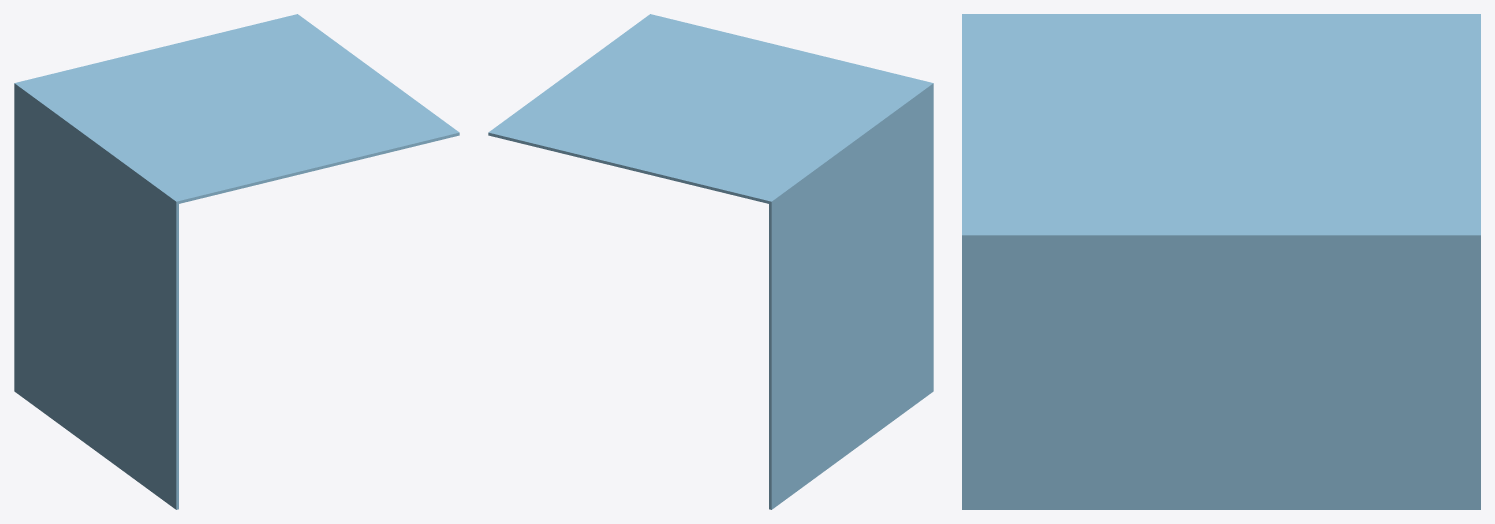
File: wing-body joint.dae
The picture shows the model from 3 angles, left to right: view 1: azimuth 30°, elevation 25°; view 2: azimuth 150°, elevation 25°; view 3: azimuth 270°, elevation 25°; orthographic projection. The views are drawn at different scales.
Parts seen in each view (by area): view 1: ID2; view 2: ID2; view 3: ID2.
Boxes of the visible parts, x1,y1,x2,y2 form: ID2: (14, 14, 459, 509); ID2: (488, 14, 933, 509); ID2: (962, 14, 1480, 509).
Bounding box in the file's own units: 1.01 × 1 × 1.05.
